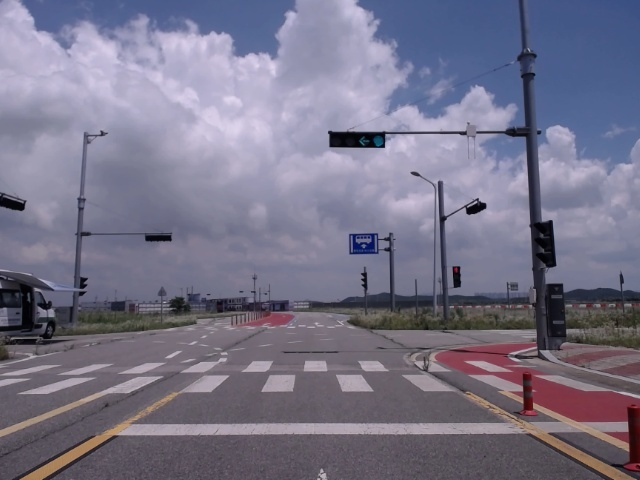all_green_4: (330, 132, 385, 149)
